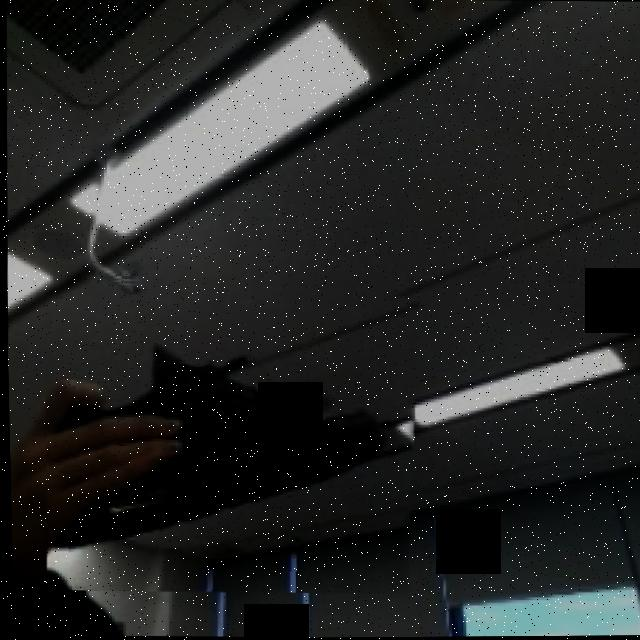shoe: (38, 274, 423, 596)
